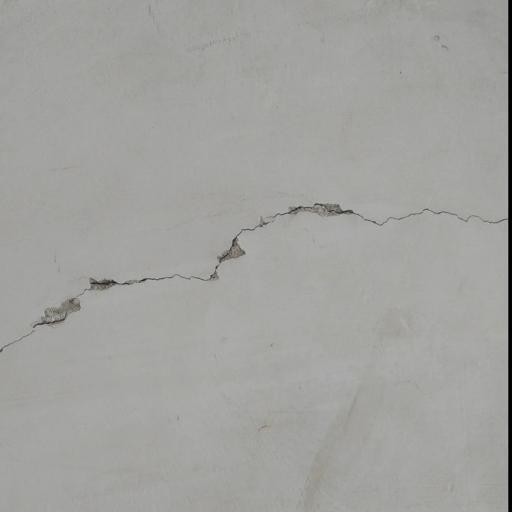major_crack: (0, 195, 509, 358)
